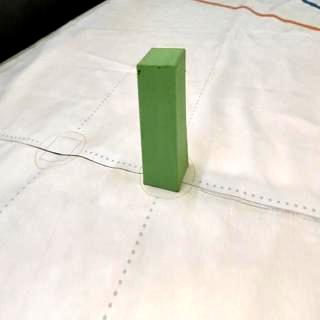greenbox: (136, 46, 188, 190)
